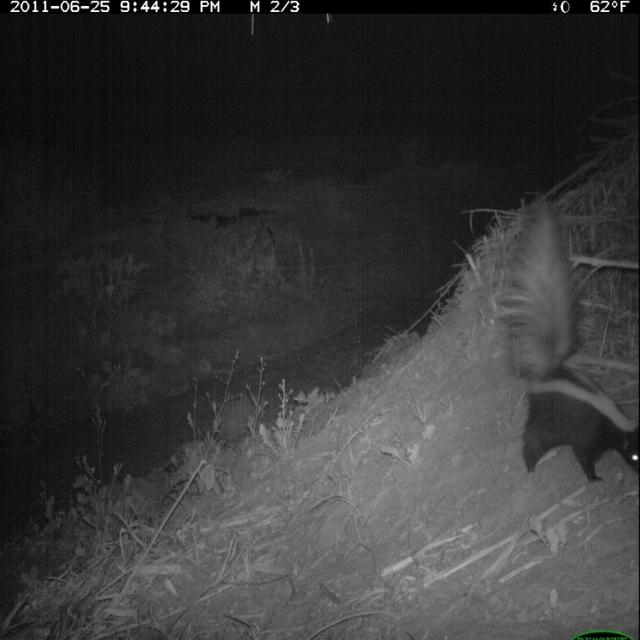skunk: (493, 182, 639, 495)
